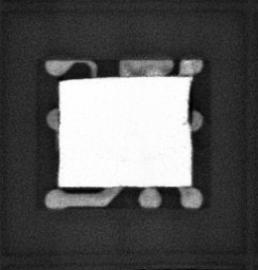DIE_BROKEN: (186, 78, 194, 125)
